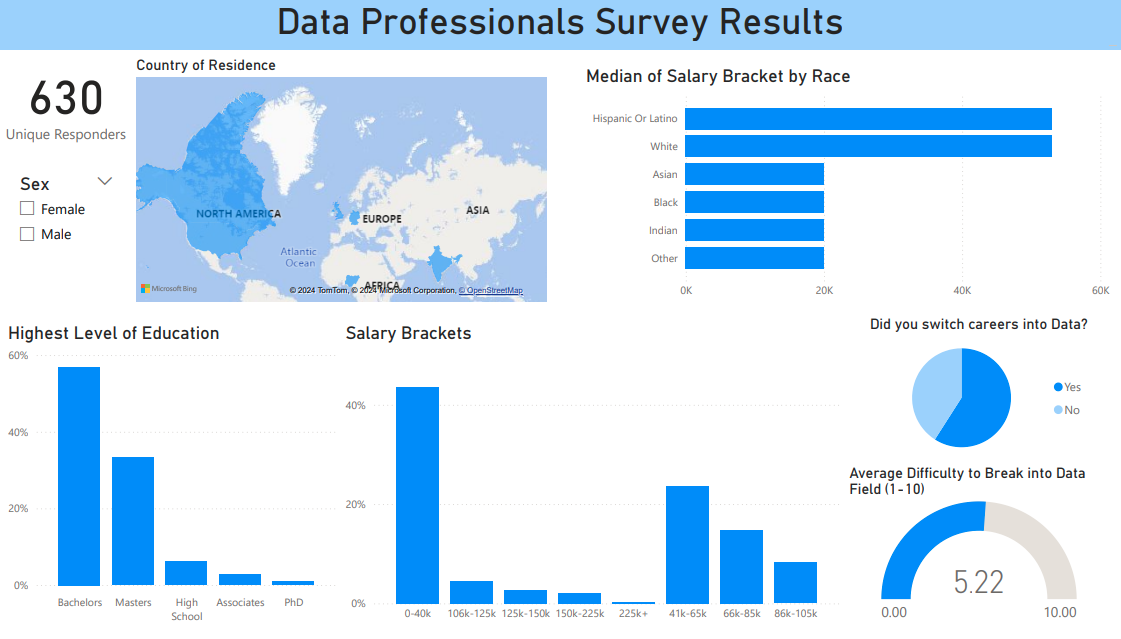

What the dashboard file says about the page in this screenshot:
{"tool":"powerbi","page":{"name":"Page 1","canvas":[1280,720],"ordinal":0},"visuals":[{"type":"textbox","title":"Data Professionals Survey Results","box":[0,0,1280,57.2],"z":0},{"type":"card","fields":{"Values":["Count(Sheet1.Unique ID)"]},"box":[0,57.2,150.8,114.5],"z":1000},{"type":"clusteredBarChart","title":"Median of Salary Bracket by Race","fields":{"Category":["Sheet1.Q13 - Race","Sheet1.Q12 - Highest Level of Education"],"Y":["Median(Sheet1.Average of Salary Bracket)"]},"box":[664,74.3,607.6,275.7],"z":2000},{"type":"columnChart","title":"Highest Level of Education","fields":{"Category":["Sheet1.Q12 - Highest Level of Education"],"Y":["CountNonNull(Sheet1.Q12 - Highest Level of Education)"]},"box":[5,369.3,385.4,350.7],"z":3000},{"type":"filledMap","title":"Country of Residence","fields":{"Category":["Sheet1.Q11 - Which Country do you live in?"]},"box":[151,64.7,478.2,285.2],"z":4000},{"type":"slicer","fields":{"Values":["Sheet1.Q9 - Male/Female?"]},"box":[9.9,193.3,131.3,115.2],"z":6003},{"type":"clusteredColumnChart","title":"Salary Brackets","fields":{"Category":["Sheet1.Q3 - Current Yearly Salary (in USD)","Sheet1.Q1 - Which Title Best Fits your Current Role?"],"Y":["Divide(CountNonNull(Sheet1.Q3 - Current Yearly Salary (in USD)), ScopedEval(CountNonNull(Sheet1.Q3 - Current Yearly Sala"]},"box":[390.3,369.3,573.7,350.7],"z":6004},{"type":"gauge","title":"Average Difficulty to Break into Data Field (1-10)","fields":{"Y":["Avg(Sheet1.Difficult to break into Data (grouped))"],"MinValue":["Min(Sheet1.Difficult to break into Data (grouped))"],"MaxValue":["Max(Sheet1.Difficult to break into Data (grouped))"]},"box":[966,529.7,305.6,190.6],"z":6005},{"type":"pieChart","title":"Did you switch careers into Data?","fields":{"Category":["Sheet1.Q2 - Did you switch careers into Data?"],"Y":["CountNonNull(Sheet1.Q2 - Did you switch careers into Data?)"]},"box":[988.8,359.6,260.1,170.2],"z":6006}]}

Visuals, with their boxes in screenshot pixels (x1, y1, x2, y2), scaled from the page's 1280x720 canvas onto the 1121x639 screenshot:
"Data Professionals Survey Results" textbox: 0:0:1120:51
card - Count(Sheet1.Unique ID): 0:51:132:152
"Median of Salary Bracket by Race" clusteredBarChart: 582:66:1114:311
"Highest Level of Education" columnChart: 4:328:342:638
"Country of Residence" filledMap: 132:57:551:311
slicer - Sheet1.Q9 - Male/Female?: 9:172:124:274
"Salary Brackets" clusteredColumnChart: 342:328:844:638
"Average Difficulty to Break into Data Field (1-10)" gauge: 846:470:1114:638
"Did you switch careers into Data?" pieChart: 866:319:1094:470
